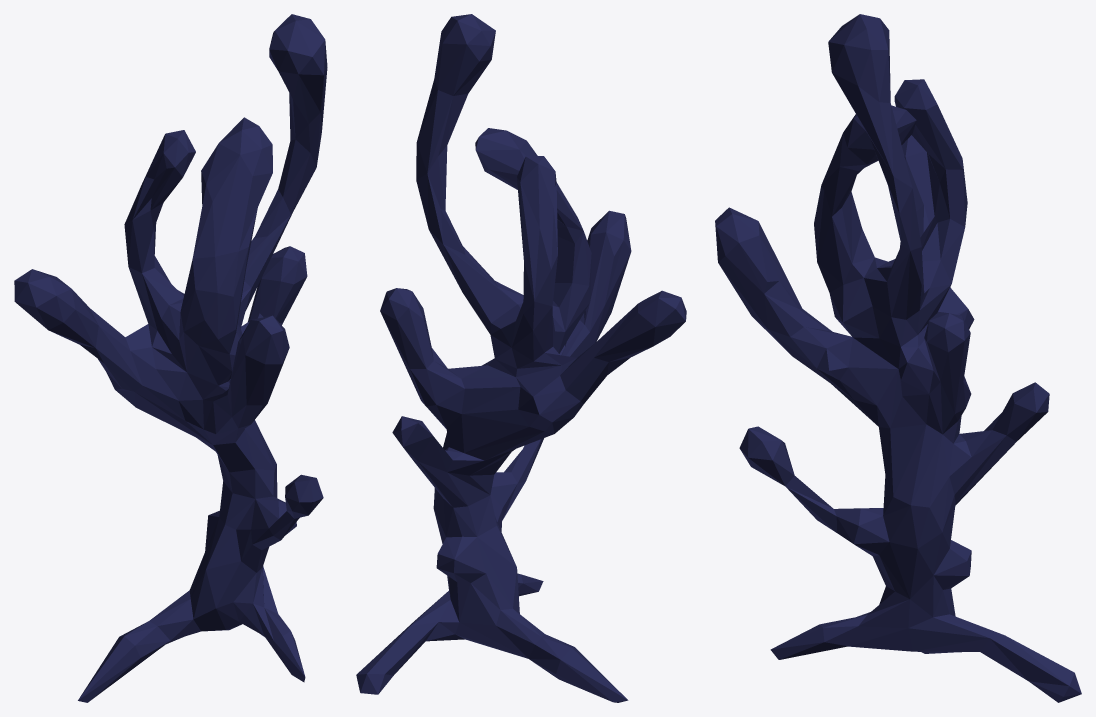
Rendered from Arbre2t.obj.
3 renders of one model, left to right at view 1: azimuth 30°, elevation 25°; view 2: azimuth 150°, elevation 25°; view 3: azimuth 270°, elevation 25°, orthographic. The views are drawn at different scales.
Parts seen in each view (by area): view 1: Arbre2:Group11795 group; view 2: Arbre2:Group11795 group; view 3: Arbre2:Group11795 group.
Boxes of the visible parts, box(x1,y1,x2,y2) form: Arbre2:Group11795 group: box(14, 14, 327, 702); Arbre2:Group11795 group: box(356, 14, 686, 702); Arbre2:Group11795 group: box(715, 14, 1081, 702).
Bounding box in the file's own units: 3.49 × 7.26 × 3.47.
